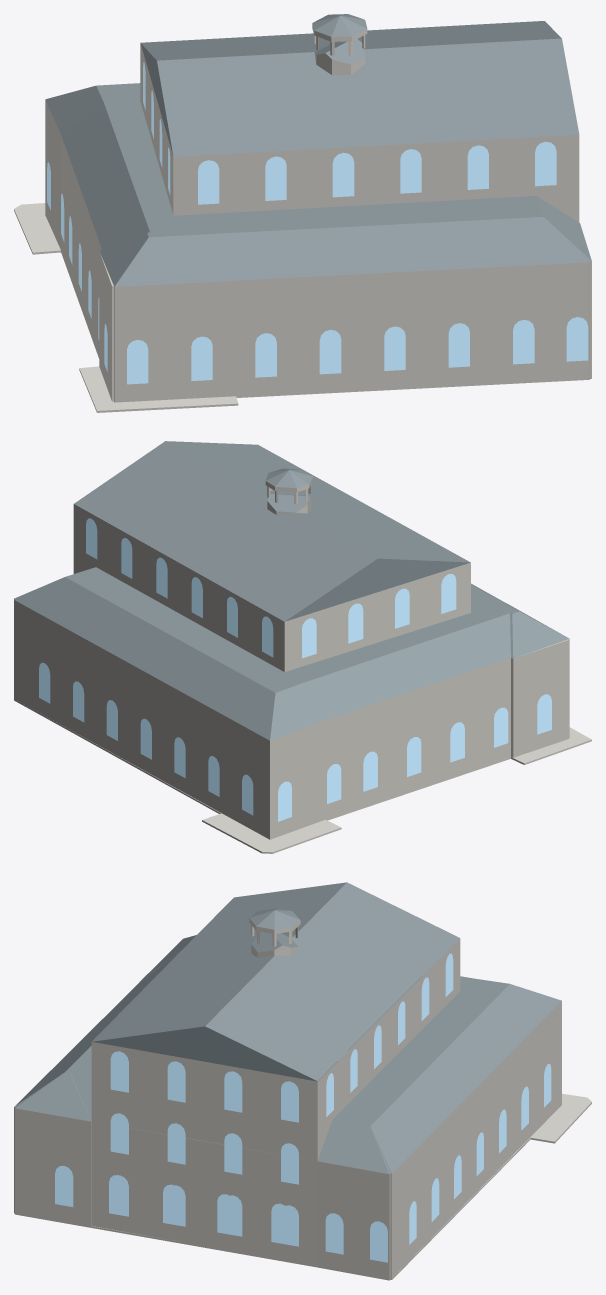
3 renders of one model, top to bottom at view 1: azimuth 30°, elevation 25°; view 2: azimuth 150°, elevation 25°; view 3: azimuth 270°, elevation 25°, orthographic. The views are drawn at different scales.
Visible parts, largest first — view 1: roof, stone, window; view 2: roof, stone, window; view 3: stone, roof, window.
Part boxes in pixels (x1,y1,x2,y2): roof: (45, 14, 591, 286); stone: (14, 24, 591, 412); window: (47, 62, 588, 384); roof: (14, 441, 569, 740); stone: (14, 477, 591, 853); window: (39, 518, 551, 821); stone: (14, 918, 591, 1280); roof: (14, 882, 561, 1174); window: (55, 953, 551, 1262).
Bounding box in the file's own units: 59.38 × 29 × 59.15.
